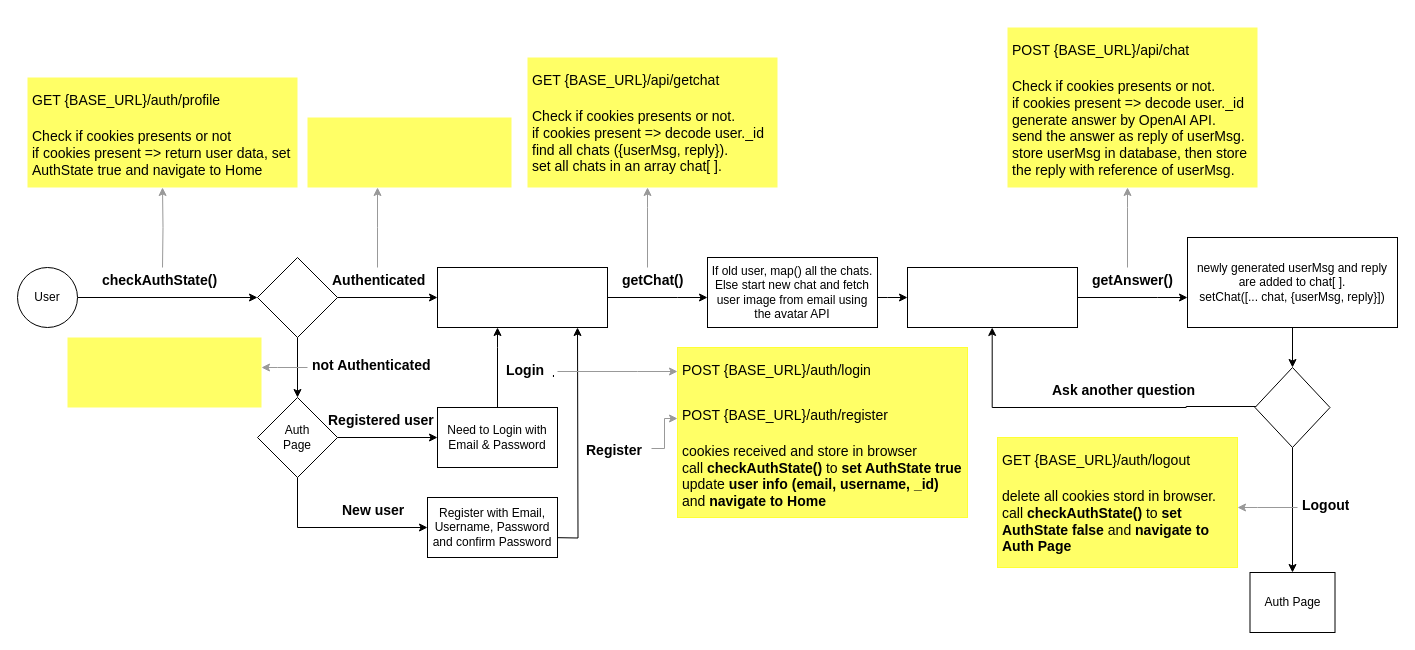
Image size: 1415x650. Some labels were removed from this diagram. Here are the shapes that lost their labels. From the top down, the box of each, then its label:
(307, 117, 511, 187): JWT tokens present in cookies AuthState true
(256, 256, 338, 338): Home Page
(436, 266, 608, 328): Home Page for Chatting
(906, 266, 1078, 328): Start new Chat with Bot
(67, 337, 261, 407): No token presents in cookies AuthState false
